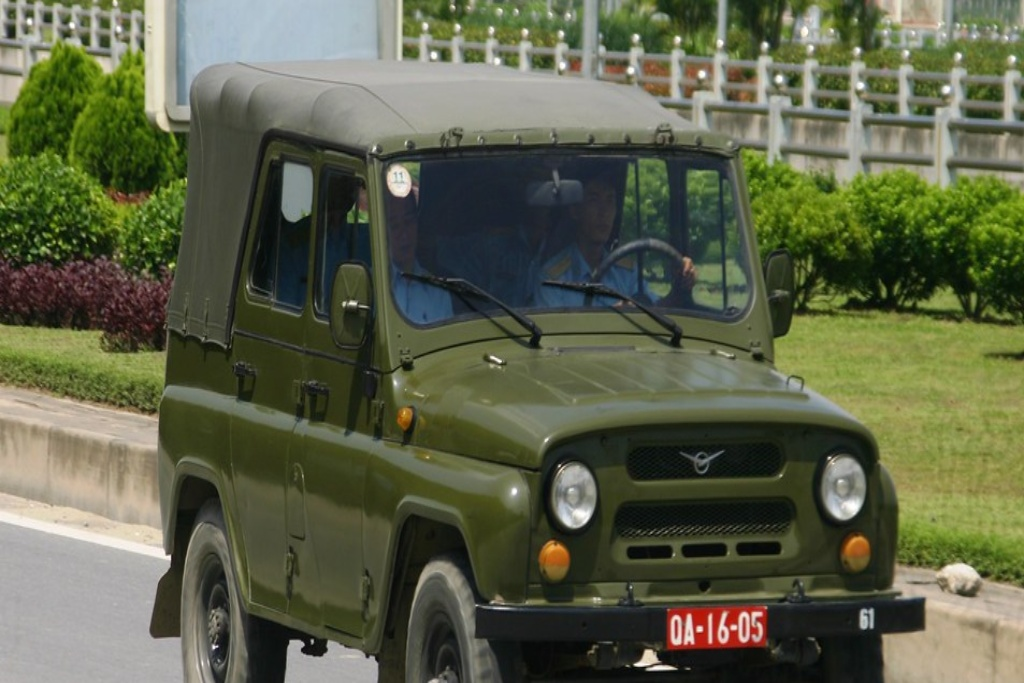plate: (664, 601, 771, 649)
